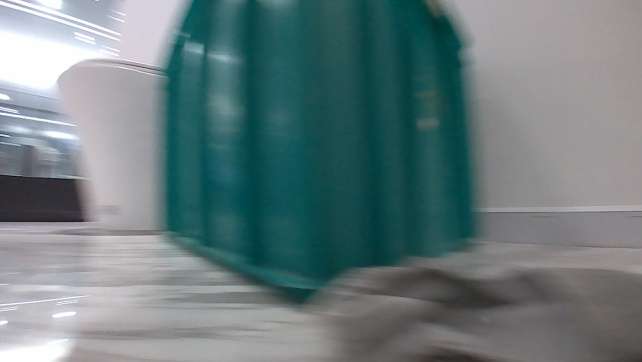socks: (310, 257, 641, 361)
toilet: (54, 54, 165, 230)
